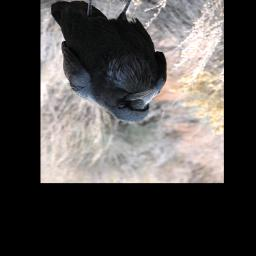Crow: (49, 0, 169, 124)
